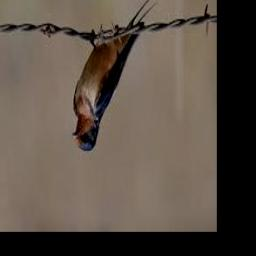Swallow: (71, 1, 158, 151)
